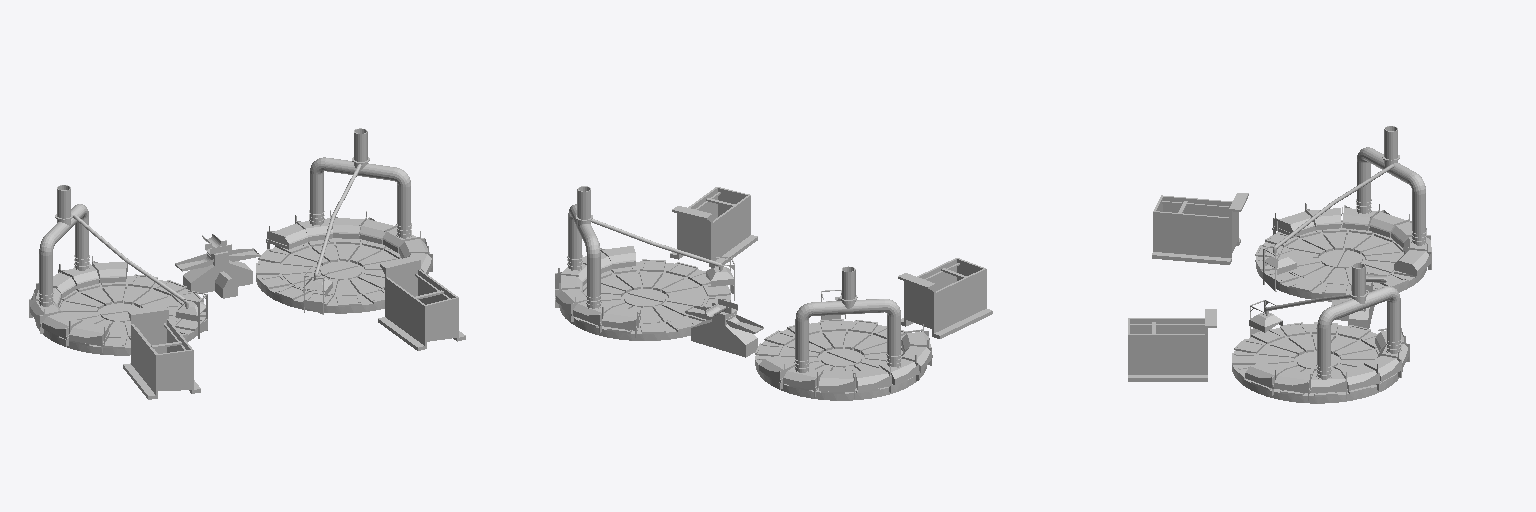
3 views of the same model, side by side, from view 1: azimuth 30°, elevation 25°; view 2: azimuth 150°, elevation 25°; view 3: azimuth 270°, elevation 25° (orthographic).
Visible parts, largest first — view 1: stitch_result_stitch_all__39612_, stitch_result_stitch_all__39678_, stitch_result_stitch_all12__39648_, stitch_result_stitch_all12__39663_, stitch_result_stitch_all08__39636_, stitch_result_stitch_all08__39675_, __40098_, stitch_result_stitch_all01__39615_, stitch_result_stitch_all01__39699_, stitch_result_stitch_all01__39696_, stitch_result_stitch_all01__39681_, stitch_result_stitch_all11__39666_ (+2 smaller); view 2: stitch_result_stitch_all__39612_, stitch_result_stitch_all__39678_, stitch_result_stitch_all12__39663_, stitch_result_stitch_all12__39648_, stitch_result_stitch_all08__39675_, stitch_result_stitch_all08__39636_, __40098_, stitch_result_stitch_all01__39690_, stitch_result_stitch_all01__39615_, stitch_result_stitch_all01__39687_, stitch_result_stitch_all01__39684_, stitch_result_stitch_all01__39681_ (+4 smaller); view 3: stitch_result_stitch_all__39678_, stitch_result_stitch_all__39612_, stitch_result_stitch_all12__39663_, stitch_result_stitch_all12__39648_, stitch_result_stitch_all08__39636_, stitch_result_stitch_all08__39675_, stitch_result_stitch_all01__39681_, stitch_result_stitch_all01__39630_, stitch_result_stitch_all01__39624_, stitch_result_stitch_all01__39699_, stitch_result_stitch_all01__39633_, stitch_result_stitch_all01__39627_ (+6 smaller).
Boxes of the visible parts, x1=… form: stitch_result_stitch_all__39612_: x1=256, y1=238, x2=401, y2=313; stitch_result_stitch_all__39678_: x1=35, y1=274, x2=205, y2=355; stitch_result_stitch_all12__39648_: x1=378, y1=256, x2=465, y2=350; stitch_result_stitch_all12__39663_: x1=123, y1=305, x2=200, y2=399; stitch_result_stitch_all08__39636_: x1=309, y1=128, x2=411, y2=238; stitch_result_stitch_all08__39675_: x1=38, y1=185, x2=89, y2=306; __40098_: x1=183, y1=251, x2=252, y2=298; stitch_result_stitch_all01__39615_: x1=266, y1=223, x2=307, y2=249; stitch_result_stitch_all01__39699_: x1=69, y1=322, x2=109, y2=352; stitch_result_stitch_all01__39696_: x1=42, y1=313, x2=82, y2=346; stitch_result_stitch_all01__39681_: x1=92, y1=256, x2=127, y2=282; stitch_result_stitch_all11__39666_: x1=73, y1=214, x2=190, y2=308; stitch_result_stitch_all__39612_: x1=559, y1=259, x2=730, y2=340; stitch_result_stitch_all__39678_: x1=755, y1=319, x2=926, y2=400; stitch_result_stitch_all12__39663_: x1=898, y1=258, x2=992, y2=338; stitch_result_stitch_all12__39648_: x1=670, y1=187, x2=757, y2=267; stitch_result_stitch_all08__39675_: x1=794, y1=266, x2=901, y2=372; stitch_result_stitch_all08__39636_: x1=567, y1=186, x2=601, y2=308; __40098_: x1=691, y1=311, x2=757, y2=357; stitch_result_stitch_all01__39690_: x1=853, y1=365, x2=892, y2=392; stitch_result_stitch_all01__39615_: x1=602, y1=307, x2=640, y2=337; stitch_result_stitch_all01__39687_: x1=819, y1=369, x2=855, y2=398; stitch_result_stitch_all01__39684_: x1=783, y1=367, x2=823, y2=397; stitch_result_stitch_all01__39681_: x1=759, y1=356, x2=794, y2=389; stitch_result_stitch_all__39678_: x1=1255, y1=220, x2=1426, y2=301; stitch_result_stitch_all__39612_: x1=1232, y1=322, x2=1402, y2=403; stitch_result_stitch_all12__39663_: x1=1152, y1=193, x2=1248, y2=264; stitch_result_stitch_all12__39648_: x1=1128, y1=309, x2=1216, y2=381; stitch_result_stitch_all08__39636_: x1=1316, y1=263, x2=1401, y2=379; stitch_result_stitch_all08__39675_: x1=1356, y1=126, x2=1426, y2=245; stitch_result_stitch_all01__39681_: x1=1394, y1=244, x2=1431, y2=276; stitch_result_stitch_all01__39630_: x1=1274, y1=370, x2=1313, y2=400; stitch_result_stitch_all01__39624_: x1=1341, y1=363, x2=1380, y2=390; stitch_result_stitch_all01__39699_: x1=1272, y1=211, x2=1314, y2=237; stitch_result_stitch_all01__39633_: x1=1245, y1=362, x2=1286, y2=395; stitch_result_stitch_all01__39627_: x1=1311, y1=369, x2=1347, y2=398.
Bounding box in the file's own units: 1063 × 335 × 762.